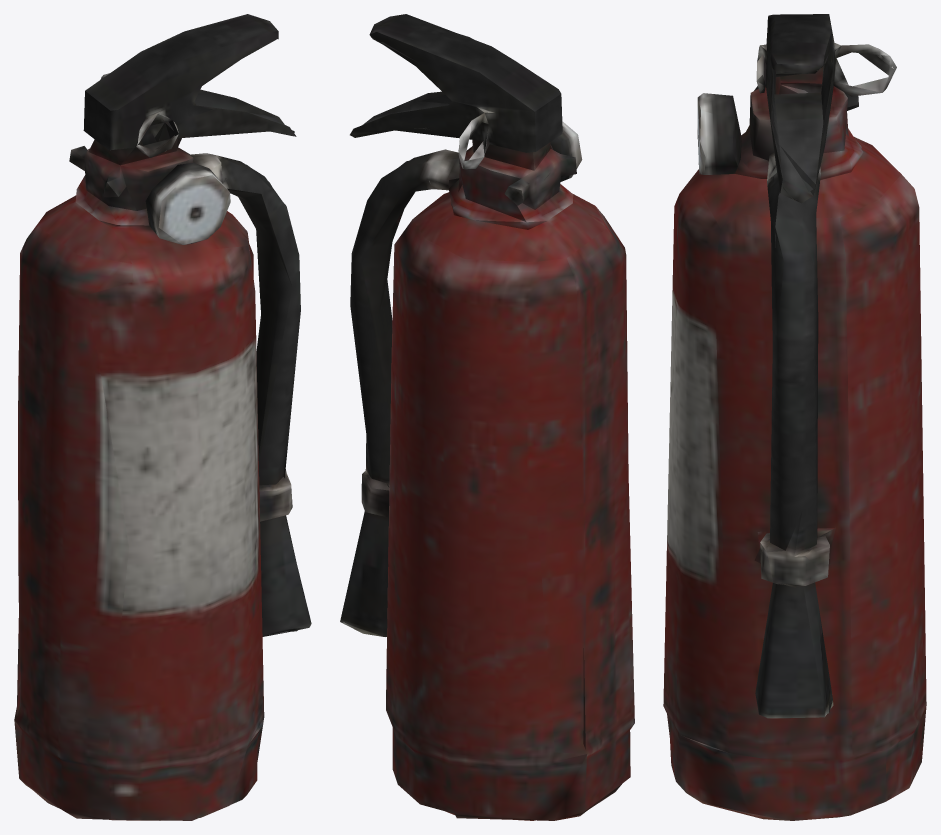
Rendered from p7-fire-extinguisher.glb.
The picture shows the model from 3 angles, left to right: view 1: azimuth 30°, elevation 25°; view 2: azimuth 150°, elevation 25°; view 3: azimuth 270°, elevation 25°; orthographic projection. The views are drawn at different scales.
Visible parts, largest first — view 1: p7-fire-extinguisher; view 2: p7-fire-extinguisher; view 3: p7-fire-extinguisher.
Part boxes in pixels (x1,y1,x2,y2): p7-fire-extinguisher: [14, 14, 311, 820]; p7-fire-extinguisher: [340, 14, 634, 820]; p7-fire-extinguisher: [663, 14, 926, 820].
Bounding box in the file's own units: 0.22 × 0.6 × 0.18.
Materials: 1 (1 with a texture image).
